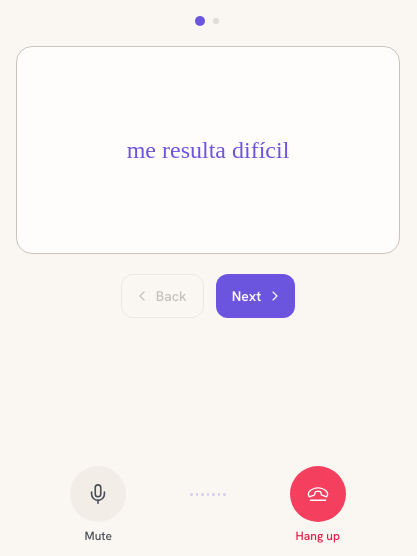
Scenario: LessonClient (Study mode) › advancing shows card 2 correction
Expected: the text "me resulta difícil" is shown, [127,136,289,162]
Click the button with test id "advance-card": (255, 296) [216,274,295,318]
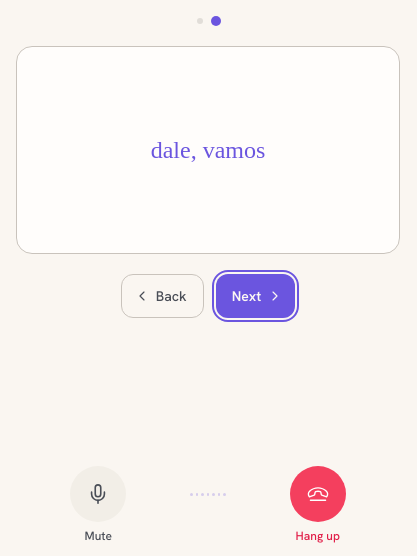
Now the text "dale, vamos" is shown, box [151,136,265,162]
